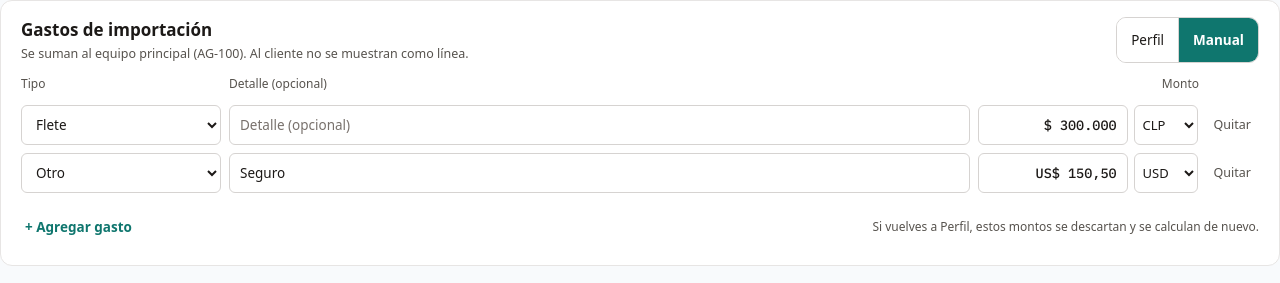
Scenario: ExpensesSection — manual expenses › edits an amount without the API's trailing zeros
Focus the field named "Monto del gasto 1" at (1053, 125), box [978, 105, 1128, 145]
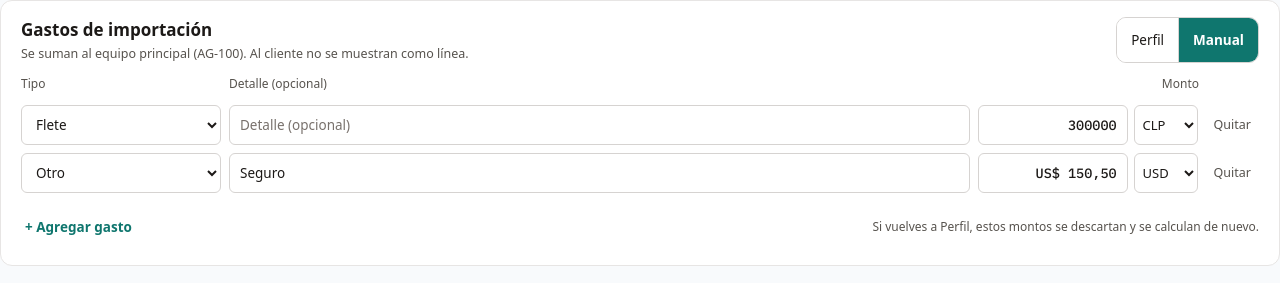
Expected: the field named "Monto del gasto 1" holds "300000", [978, 105, 1128, 145]
Focus the field named "Monto del gasto 2" at (1053, 173), box [978, 153, 1128, 193]
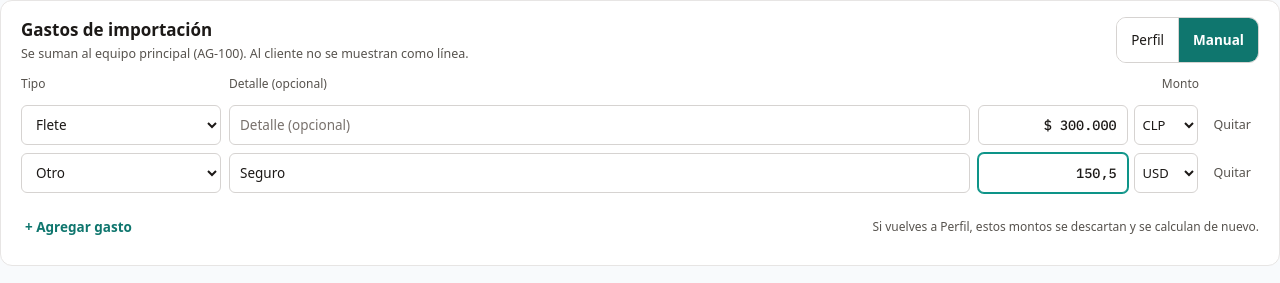
Expected: the field named "Monto del gasto 2" holds "150,5", [978, 153, 1128, 193]
